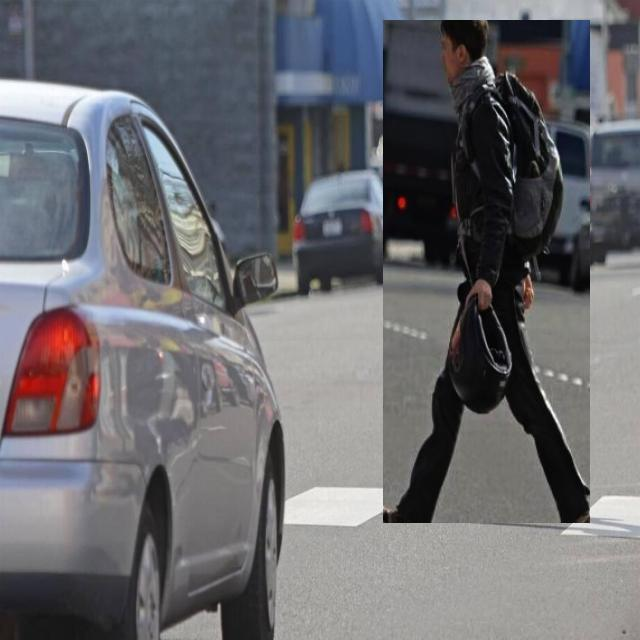without scooter: (383, 20, 590, 523)
